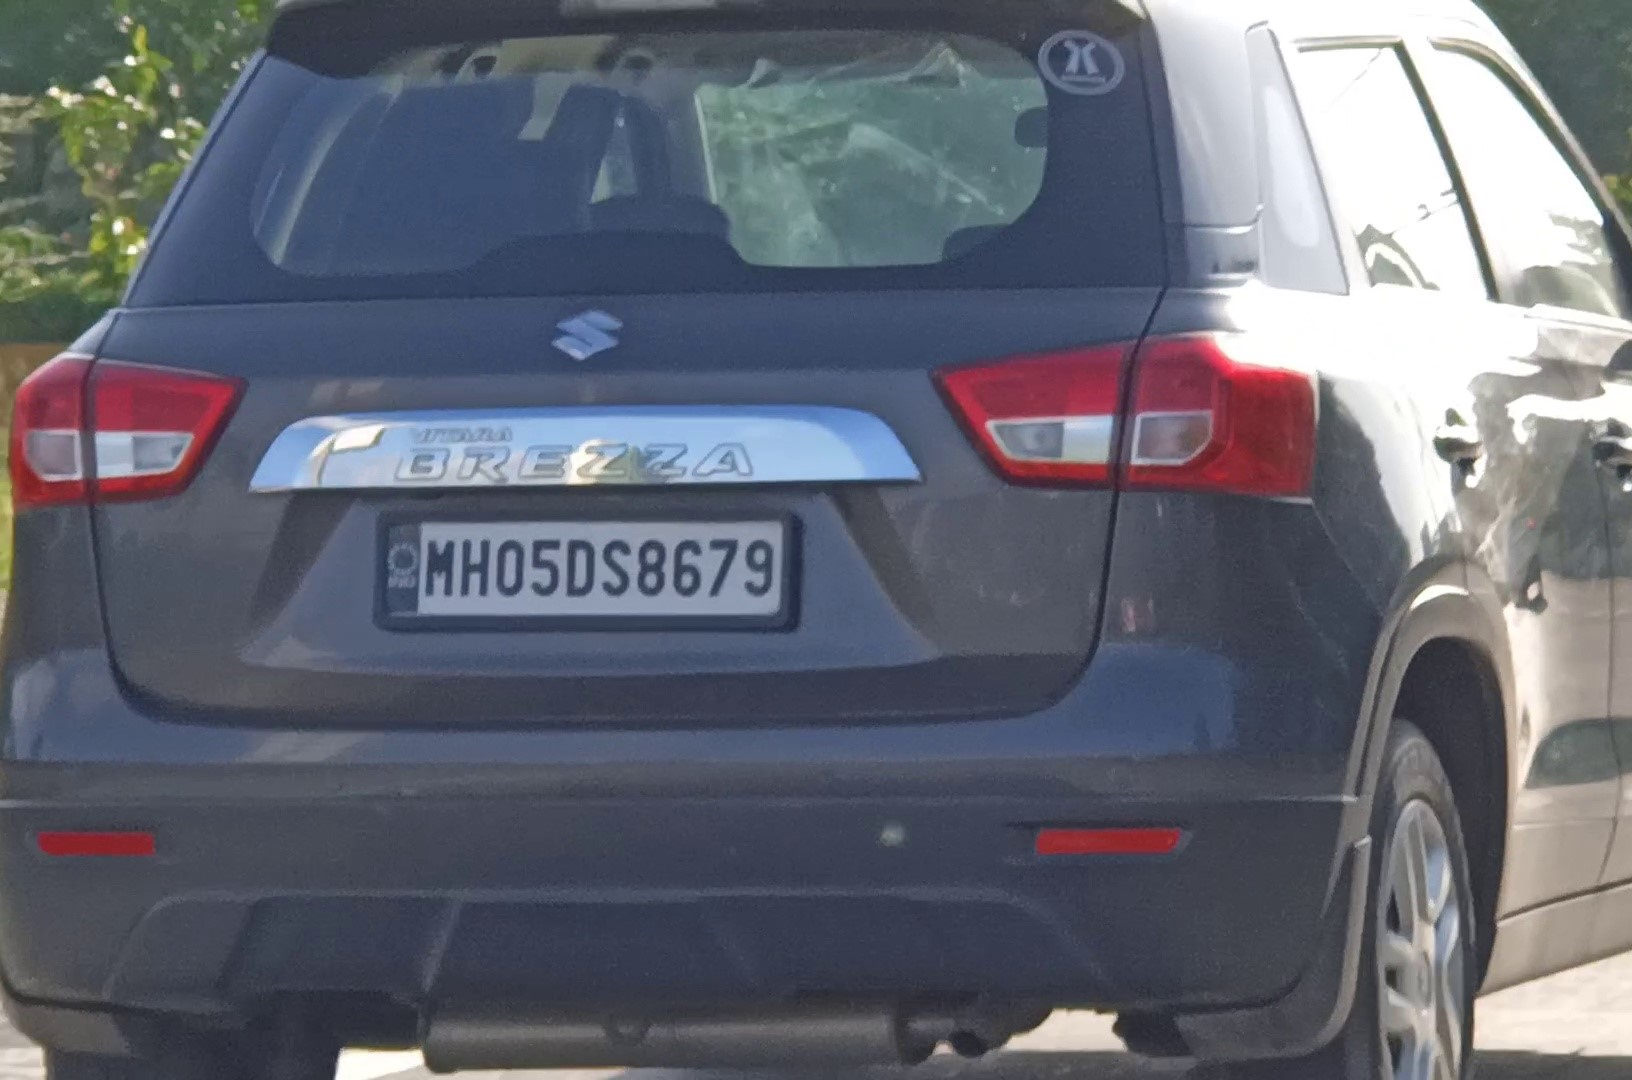MH05DS8679: (377, 515, 782, 618)
